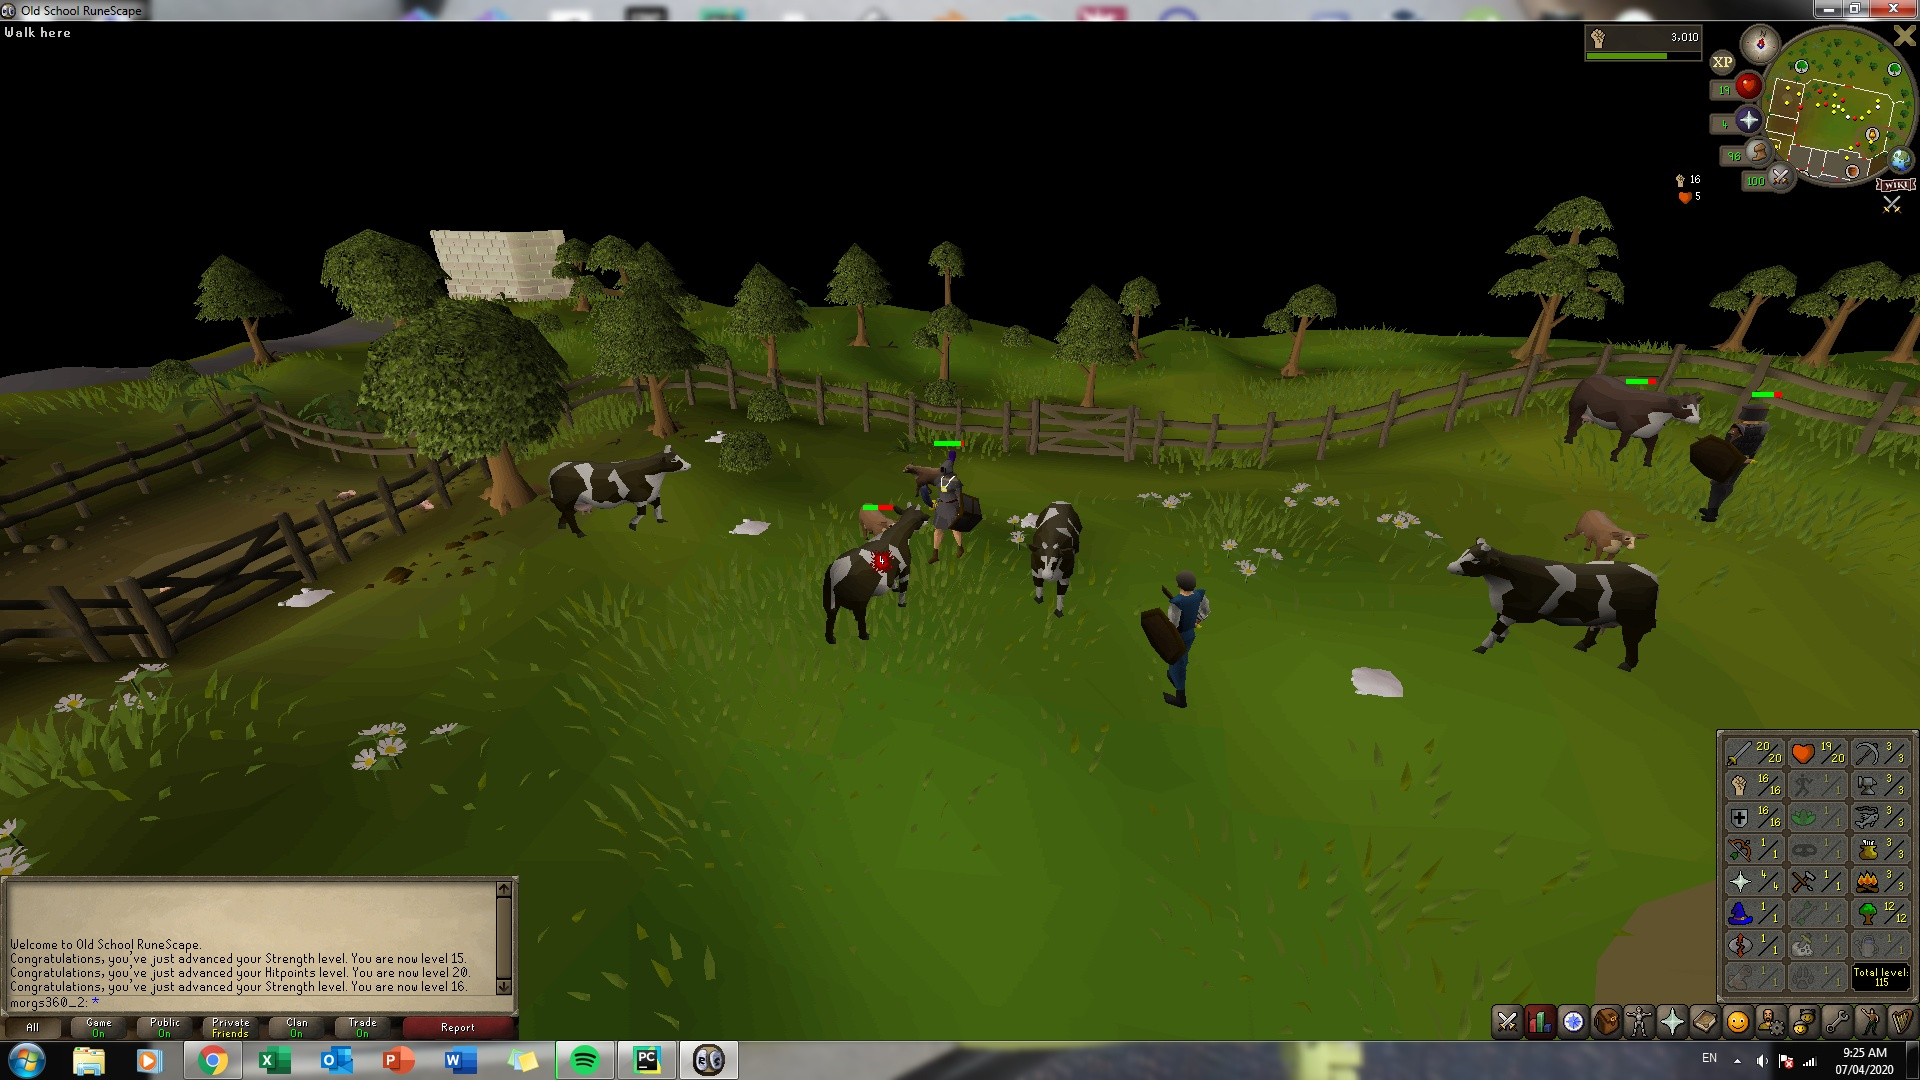cow: (1443, 537, 1659, 674), (825, 502, 934, 647), (545, 443, 694, 541), (1563, 364, 1704, 465), (1022, 493, 1084, 620)
